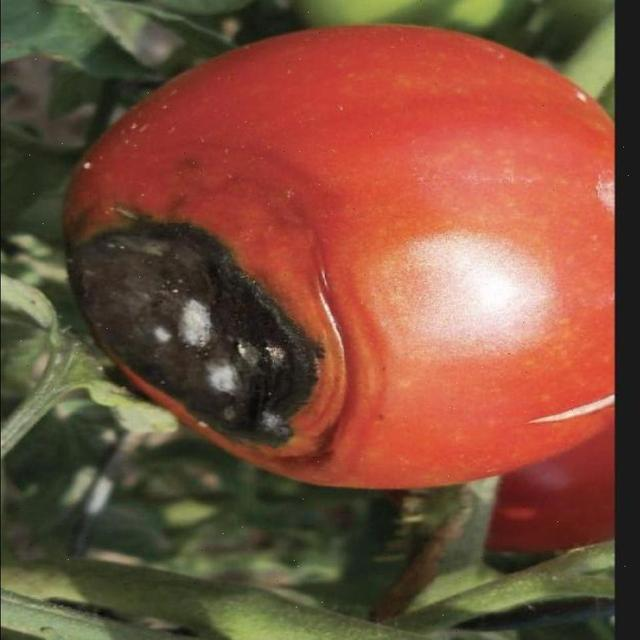Blossom End Rot Fruit: (44, 140, 218, 309)
